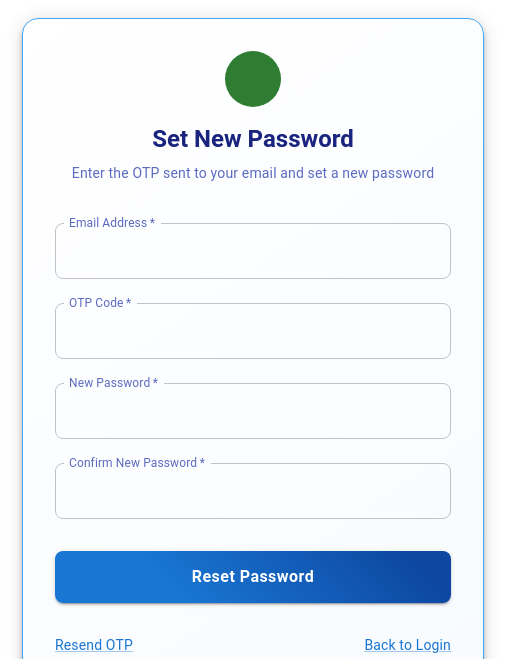
Reset Password Page › should show error when passwords do not match
This screenshot has width=507, height=659.
In the field named "email": (272, 251) top-left (93, 223), bottom-right (451, 279), type "test@example.com"
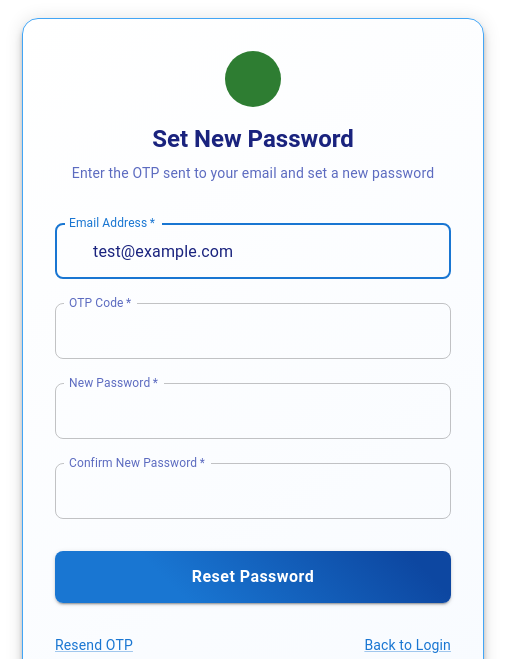
In the field named "otp": (272, 331) top-left (93, 303), bottom-right (451, 359), type "123456"
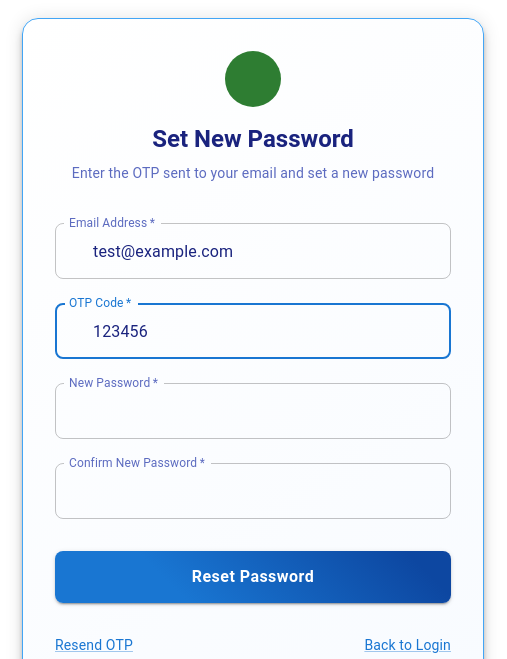
In the password field named "newPassword": (272, 411) top-left (93, 383), bottom-right (451, 439), type "password123"
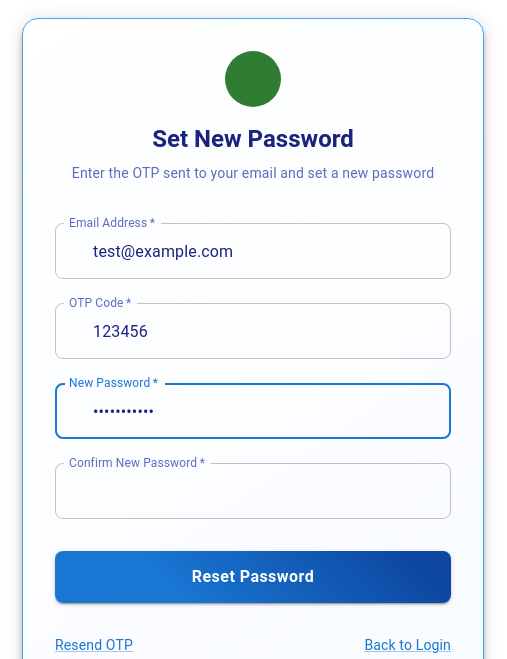
In the password field named "confirmPassword": (272, 491) top-left (93, 463), bottom-right (451, 519), type "password456"
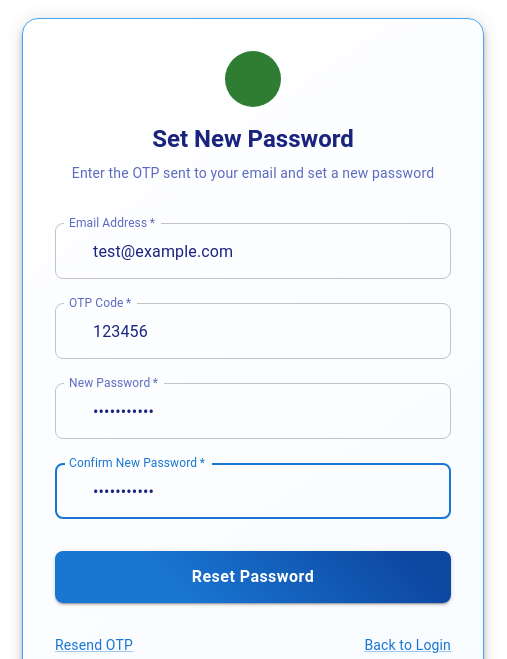
Click the button "Reset Password": (253, 577) top-left (55, 551), bottom-right (451, 603)
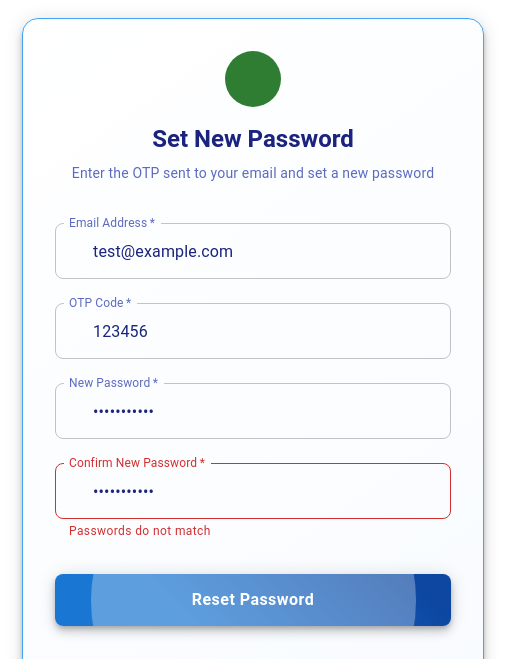
Result: the text "Passwords do not match" is shown at top-left (69, 524), bottom-right (211, 538)
